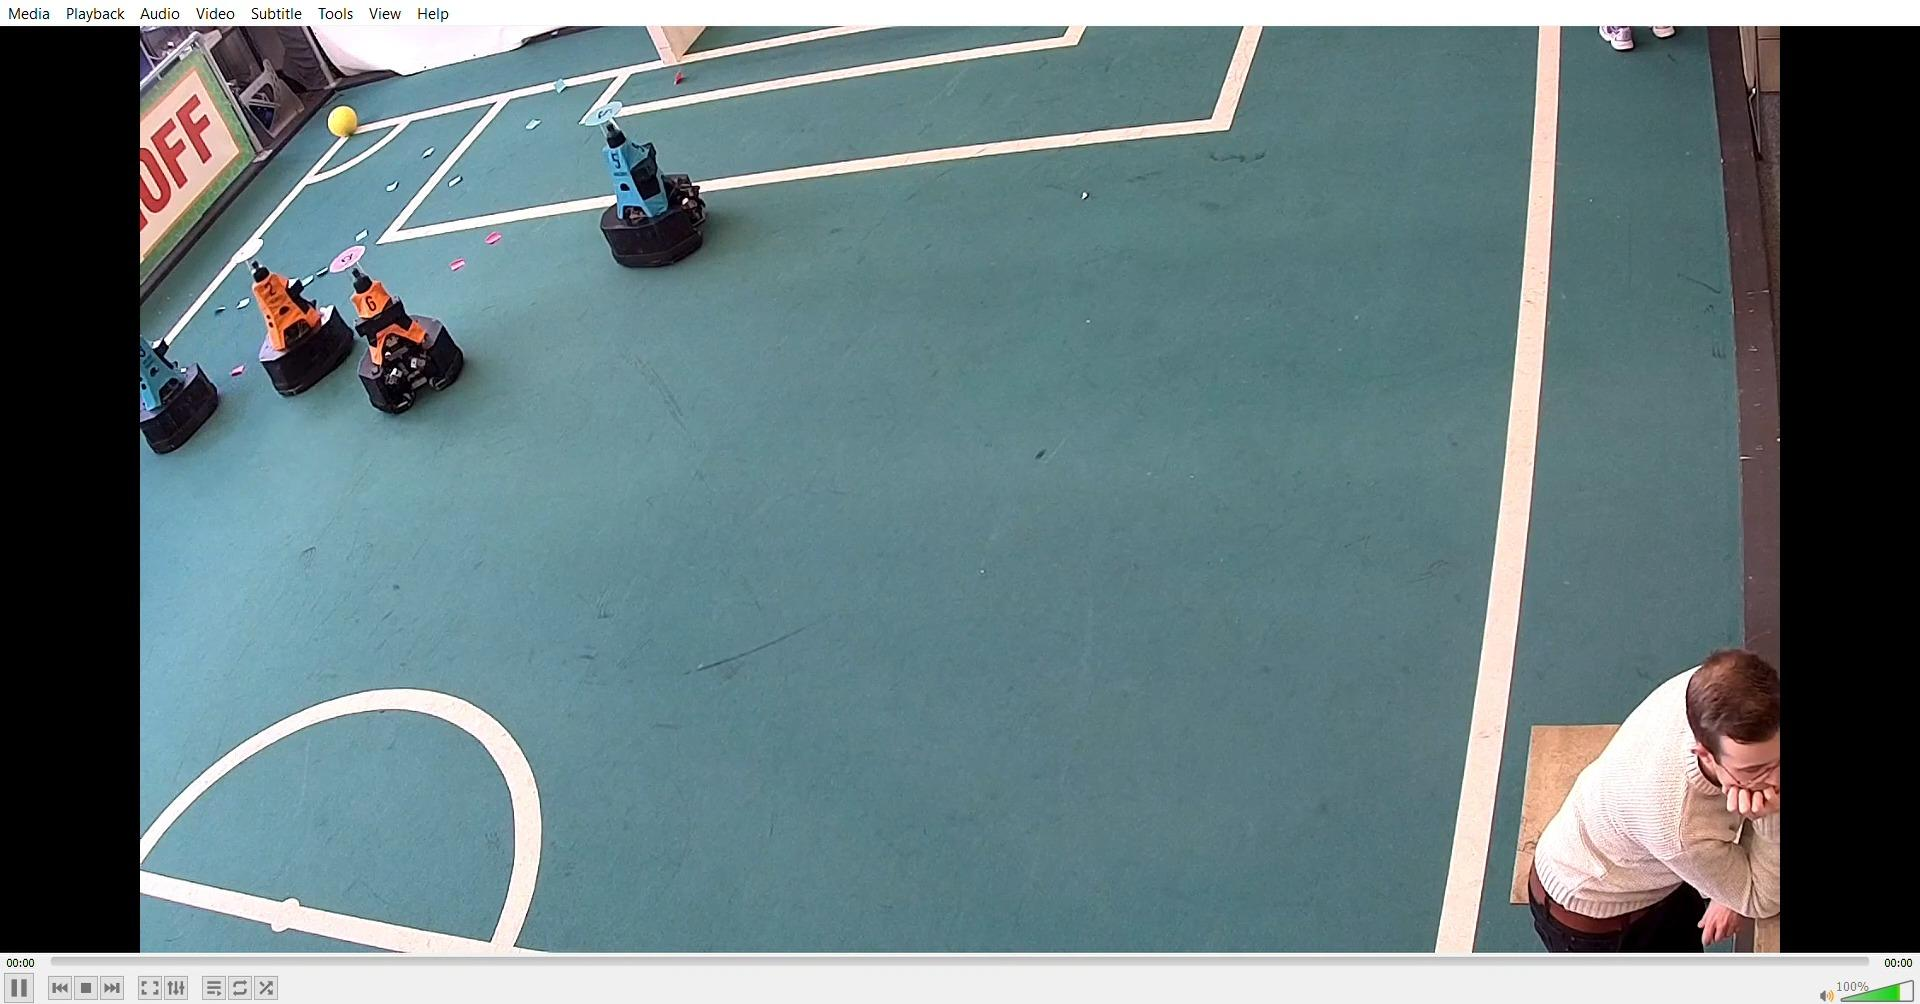Ball: (334, 103, 370, 136)
Team_Blue: (582, 91, 721, 273), (136, 316, 227, 452)
Team_Red: (331, 236, 467, 406), (229, 239, 354, 402)
